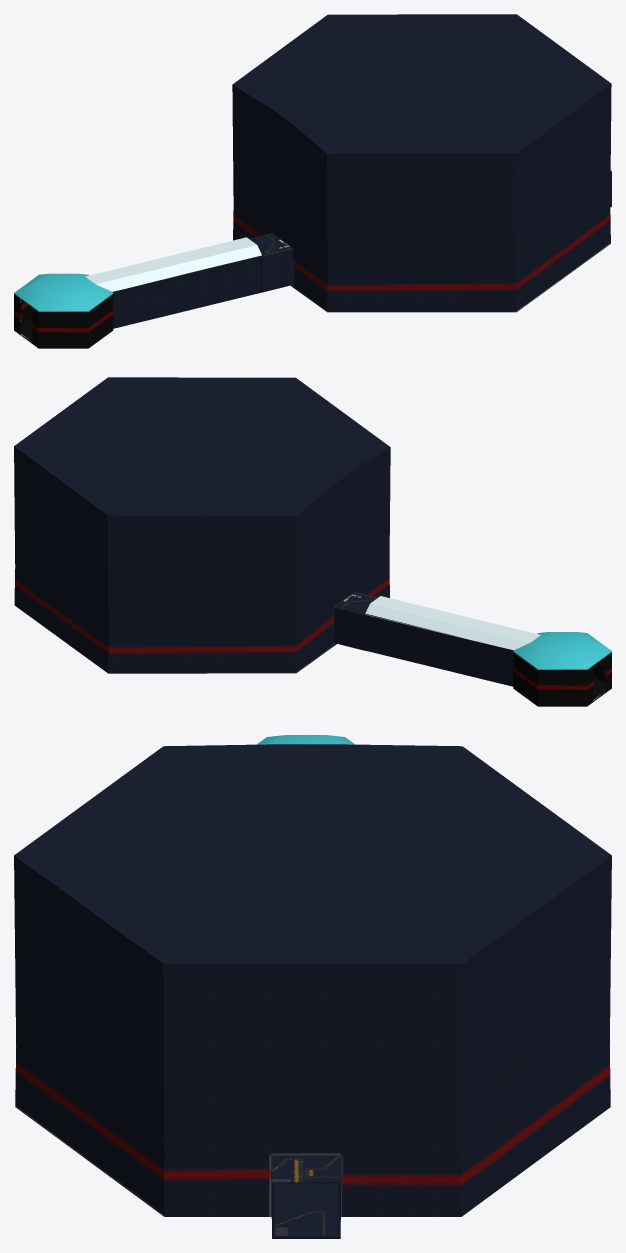
File: lab.fbx
The picture shows the model from 3 angles, top to bottom: view 1: azimuth 30°, elevation 25°; view 2: azimuth 150°, elevation 25°; view 3: azimuth 270°, elevation 25°; orthographic projection. The views are drawn at different scales.
Parts seen in each view (by area): view 1: magnet_game_enviroment:polySurface3, magnet_game_enviroment:PART2_BOTTOM, magnet_game_enviroment:PART1_BOTTOM, magnet_game_enviroment:PAART2_TOP, magnet_game_enviroment:PART1_TOP, magnet_game_enviroment:polySurface1; view 2: magnet_game_enviroment:polySurface3, magnet_game_enviroment:PART2_BOTTOM, magnet_game_enviroment:PART1_BOTTOM, magnet_game_enviroment:PAART2_TOP, magnet_game_enviroment:PART1_TOP, magnet_game_enviroment:polySurface1; view 3: magnet_game_enviroment:polySurface3, magnet_game_enviroment:polySurface2, magnet_game_enviroment:PART1_TOP.
Boxes of the visible parts, x1,y1,x2,y2 form: magnet_game_enviroment:polySurface3: (232, 14, 611, 312); magnet_game_enviroment:PART2_BOTTOM: (112, 255, 262, 328); magnet_game_enviroment:PART1_BOTTOM: (14, 294, 113, 348); magnet_game_enviroment:PAART2_TOP: (85, 237, 261, 291); magnet_game_enviroment:PART1_TOP: (14, 273, 113, 311); magnet_game_enviroment:polySurface1: (249, 233, 294, 292); magnet_game_enviroment:polySurface3: (14, 377, 390, 673); magnet_game_enviroment:PART2_BOTTOM: (365, 613, 513, 686); magnet_game_enviroment:PART1_BOTTOM: (513, 652, 611, 706); magnet_game_enviroment:PAART2_TOP: (365, 596, 540, 650); magnet_game_enviroment:PART1_TOP: (513, 632, 611, 669); magnet_game_enviroment:polySurface1: (333, 592, 377, 650); magnet_game_enviroment:polySurface3: (14, 744, 611, 1216); magnet_game_enviroment:polySurface2: (271, 1155, 340, 1238); magnet_game_enviroment:PART1_TOP: (257, 735, 354, 744).
Size of the model in its own units: 6276 by 1700 by 3581.
